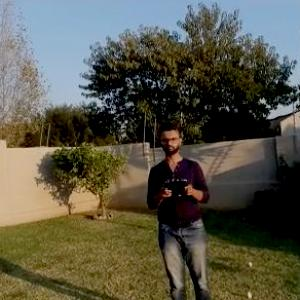follow: (140, 110, 214, 299)
